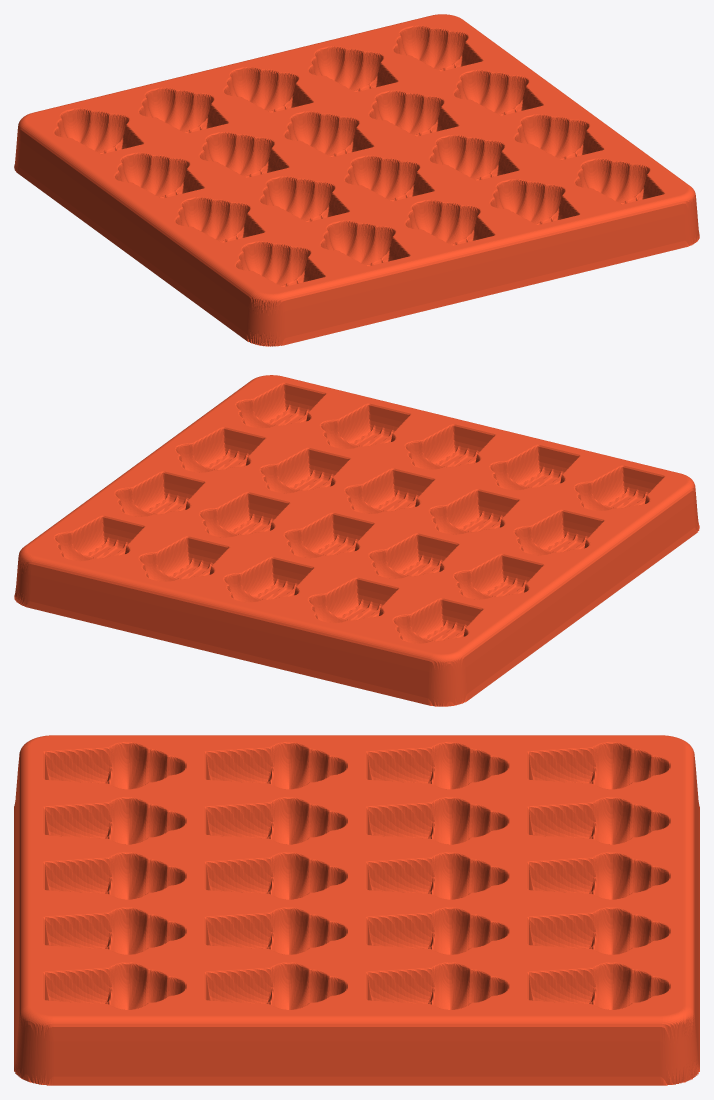
The model's file is mold.glb.
3 renders of one model, top to bottom at view 1: azimuth 30°, elevation 25°; view 2: azimuth 150°, elevation 25°; view 3: azimuth 270°, elevation 25°, orthographic. The views are drawn at different scales.
Parts seen in each view (by area): view 1: geometry_0; view 2: geometry_0; view 3: geometry_0.
Boxes of the visible parts, x1,y1,x2,y2 form: geometry_0: (14, 14, 699, 346); geometry_0: (14, 375, 699, 706); geometry_0: (14, 735, 699, 1085).
Size of the model in its own units: 0.1579 by 0.0159 by 0.1563.
